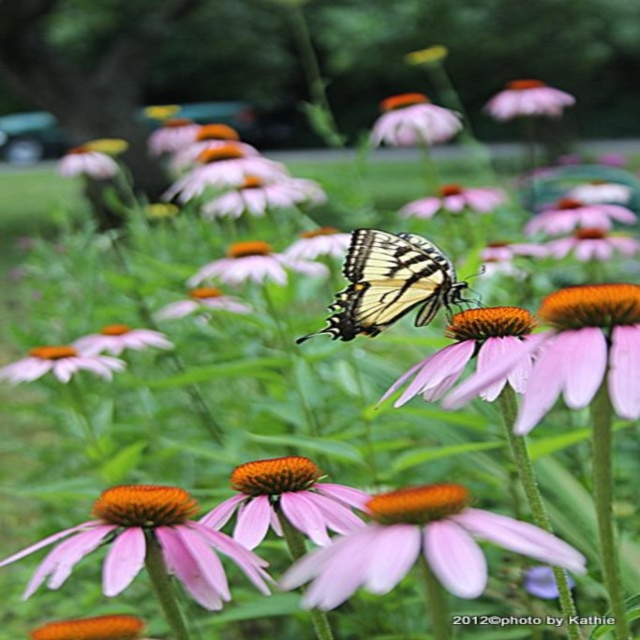Butterfly: (293, 228, 486, 345)
